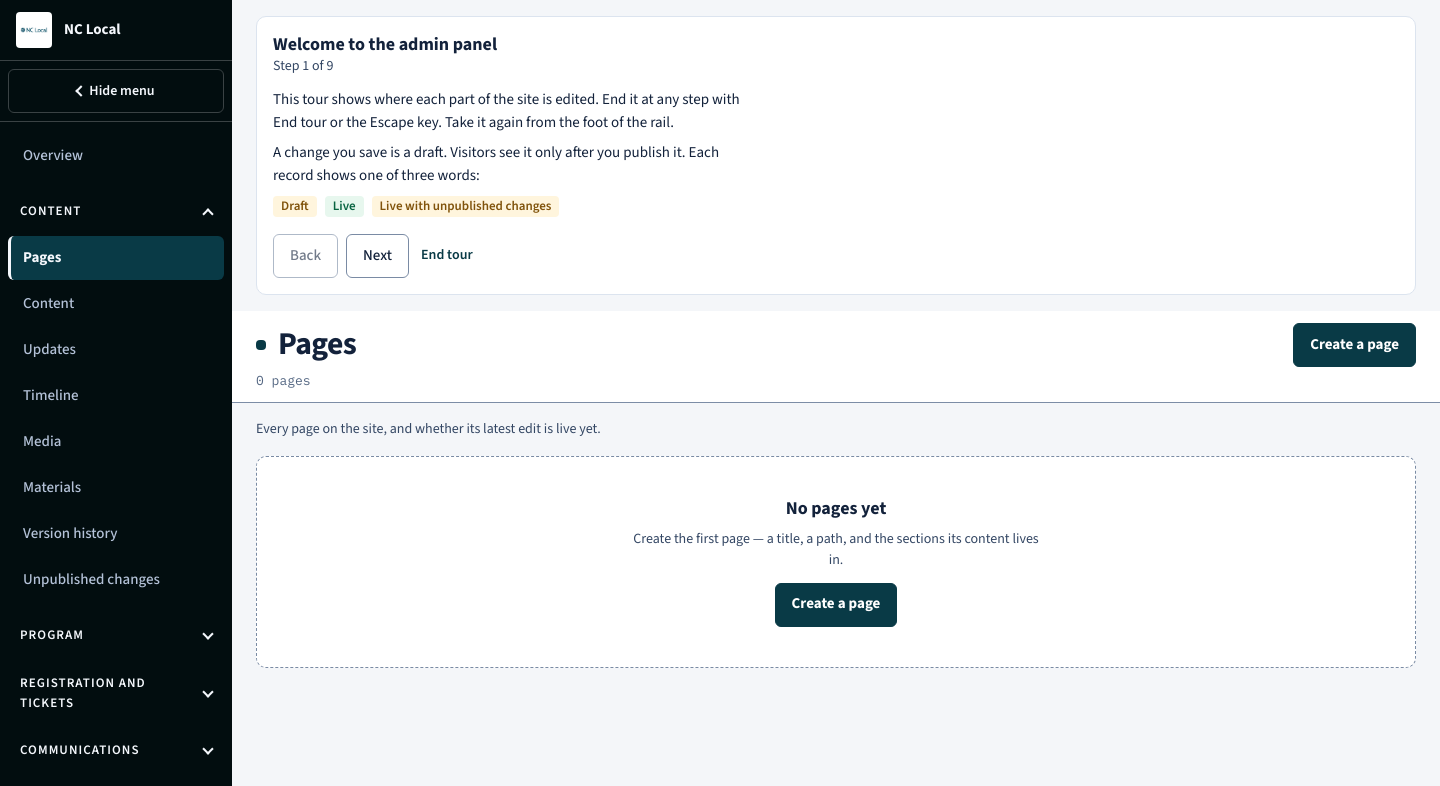
the editor tour in the shell › stays on screen, at its step, while the reader opens the section it names
The width and height of the screenshot is (1440, 786).
Click the button "Next" at [378, 256], box [346, 234, 409, 278]
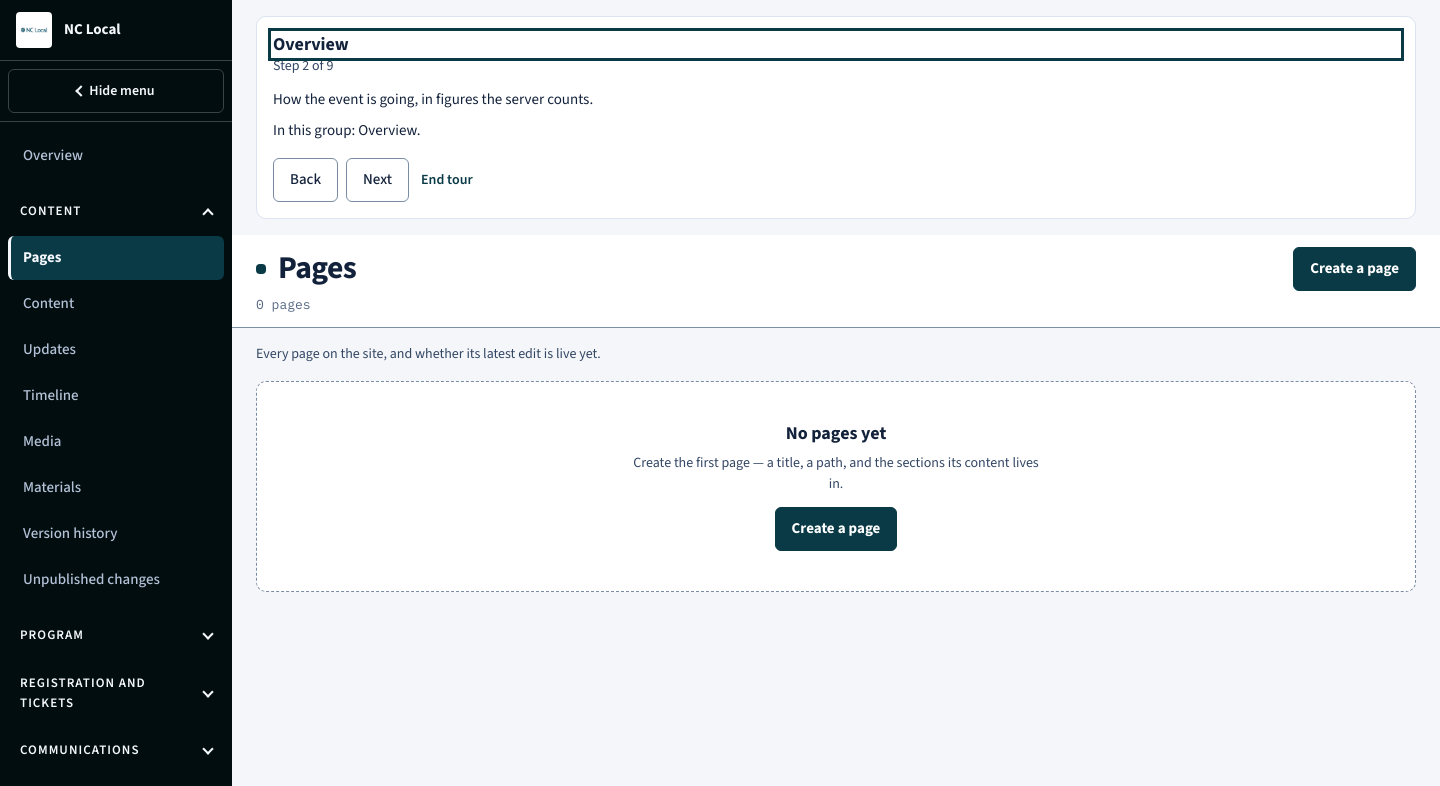
Expected: the text "Step 2 of 9" is shown, [273, 56, 333, 76]
Click the link "Content" at [49, 303], box [23, 293, 74, 314]
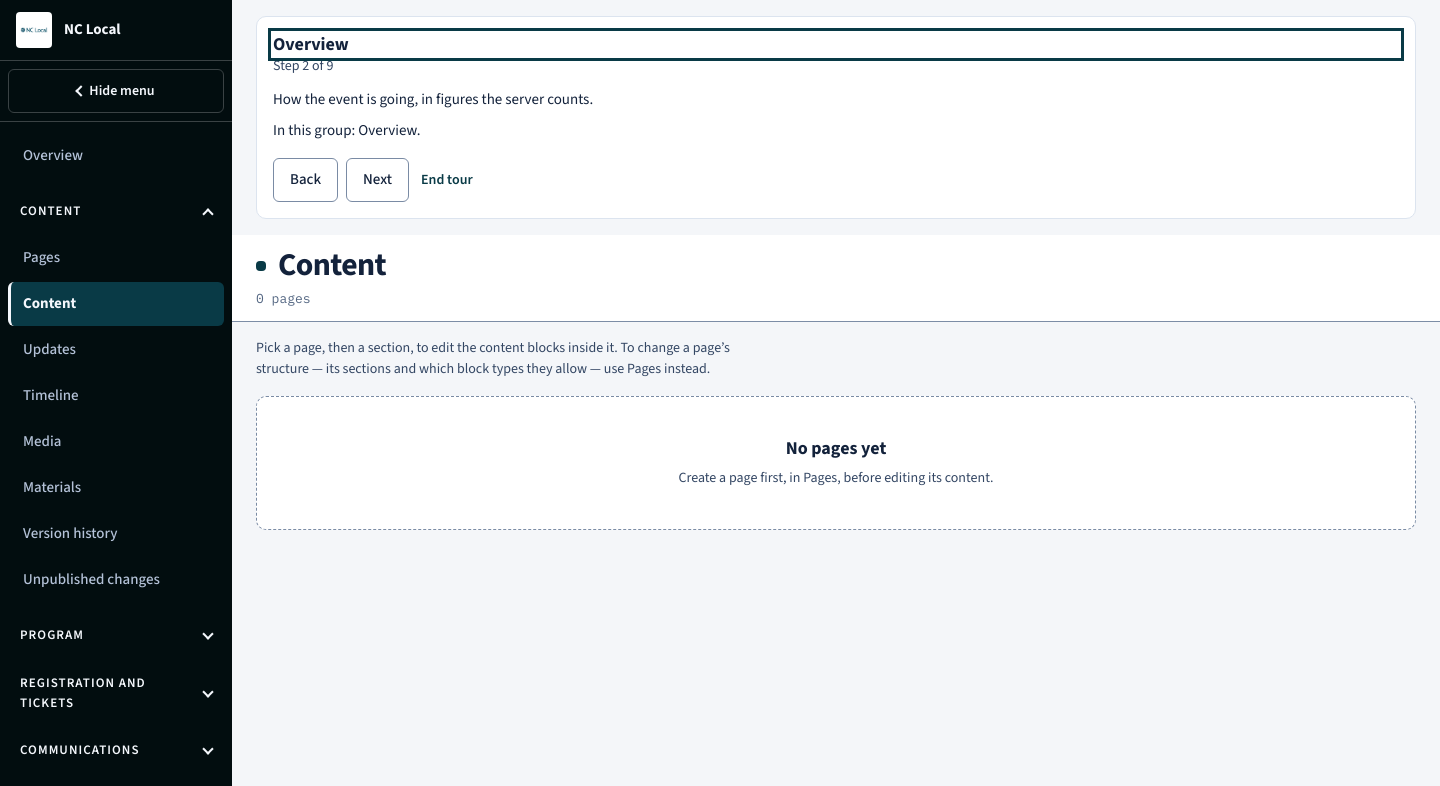
Expected: the text "Step 2 of 9" is shown, [273, 56, 333, 76]
Expected: the heading "Content" is shown, [278, 247, 386, 285]
